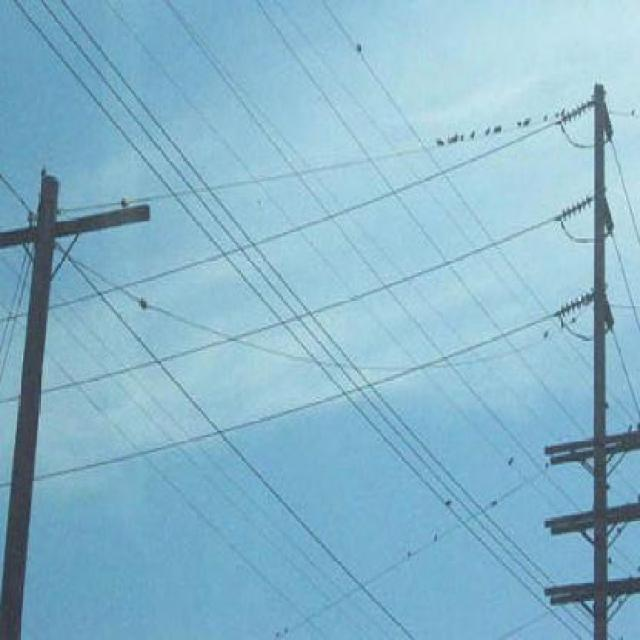pole: (0, 153, 74, 636), (578, 64, 640, 638)
